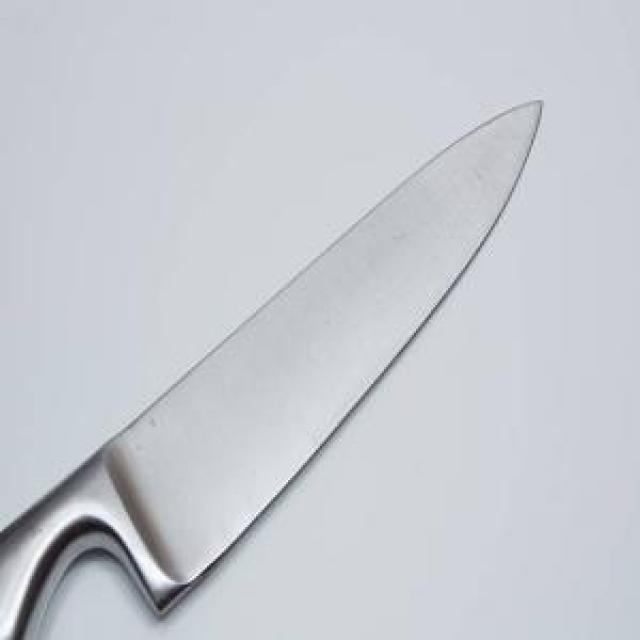knife: (0, 96, 546, 639)
